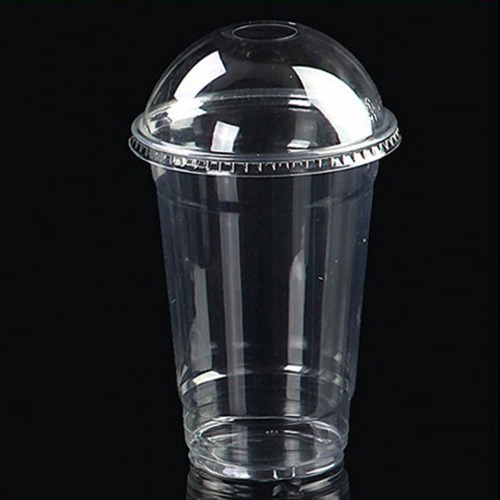plastic_glass: (122, 16, 405, 486)
